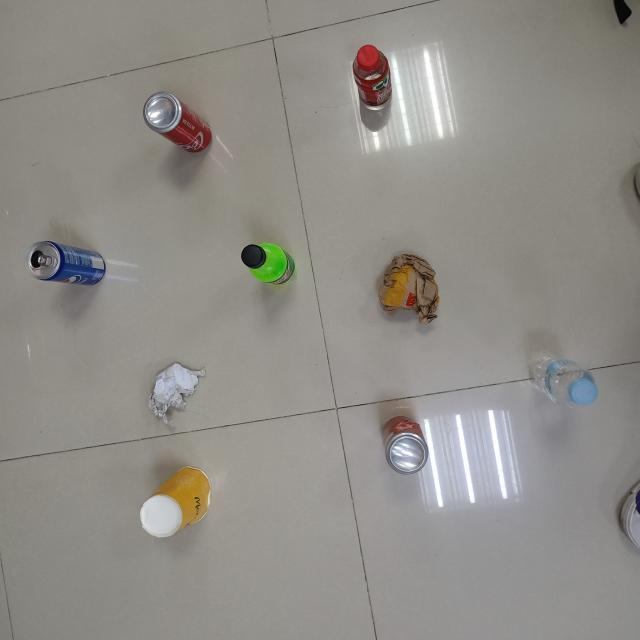recyclable waste: (133, 458, 215, 540), (514, 344, 602, 416), (373, 245, 445, 328), (138, 87, 218, 158), (18, 234, 110, 292), (144, 357, 208, 429), (373, 406, 433, 477), (348, 38, 396, 116), (235, 237, 300, 292)
